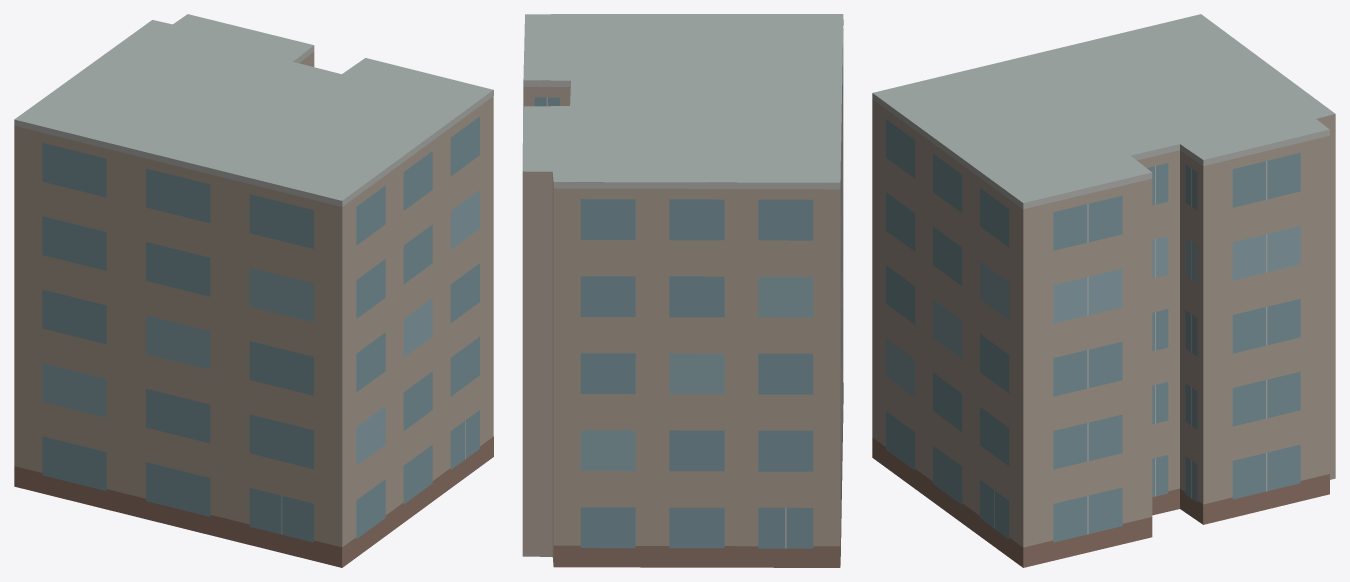
File: survey-upis-32934528.glb
3 renders of one model, left to right at view 1: azimuth 30°, elevation 25°; view 2: azimuth 150°, elevation 25°; view 3: azimuth 270°, elevation 25°, orthographic. The views are drawn at different scales.
Parts seen in each view (by area): view 1: survey-upis-32934528.tmp; view 2: survey-upis-32934528.tmp; view 3: survey-upis-32934528.tmp.
Part boxes in pixels (box(x1,y1,x2,y2)): survey-upis-32934528.tmp: box(14, 14, 493, 567); survey-upis-32934528.tmp: box(522, 14, 843, 567); survey-upis-32934528.tmp: box(872, 14, 1335, 567).
Size of the model in its own units: 16.13 by 14.5 by 16.7.
